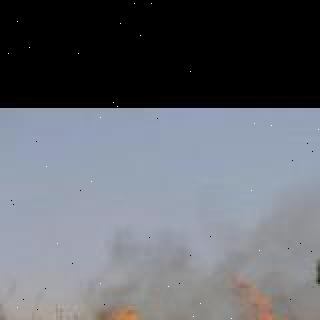fire: (93, 211, 320, 316), (190, 282, 284, 320), (72, 308, 164, 320)
